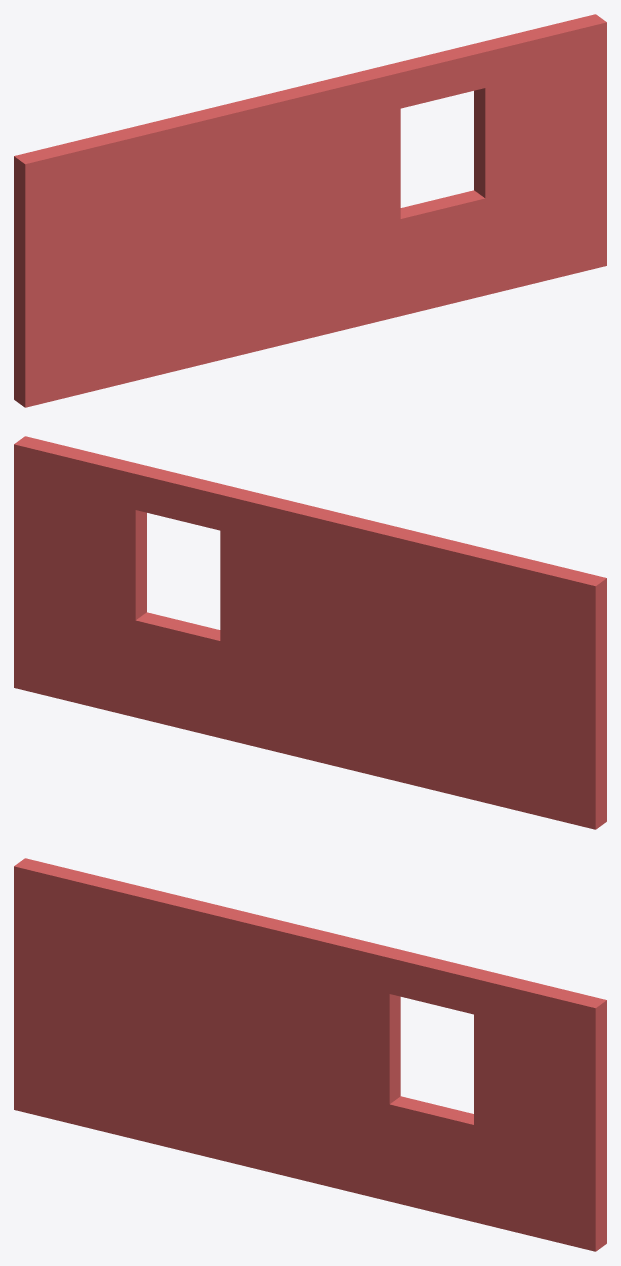
The model's file is SM_wallSixMeters.fbx.
3 views of the same model, one above another, from view 1: azimuth 30°, elevation 25°; view 2: azimuth 150°, elevation 25°; view 3: azimuth 330°, elevation 25° (orthographic).
Visible parts, largest first — view 1: pCube1; view 2: pCube1; view 3: pCube1.
Boxes of the visible parts, x1=… form: pCube1: x1=14, y1=14, x2=606, y2=407; pCube1: x1=14, y1=436, x2=606, y2=829; pCube1: x1=14, y1=858, x2=606, y2=1251.
Bounding box in the file's own units: 6000 × 2400 × 200.
